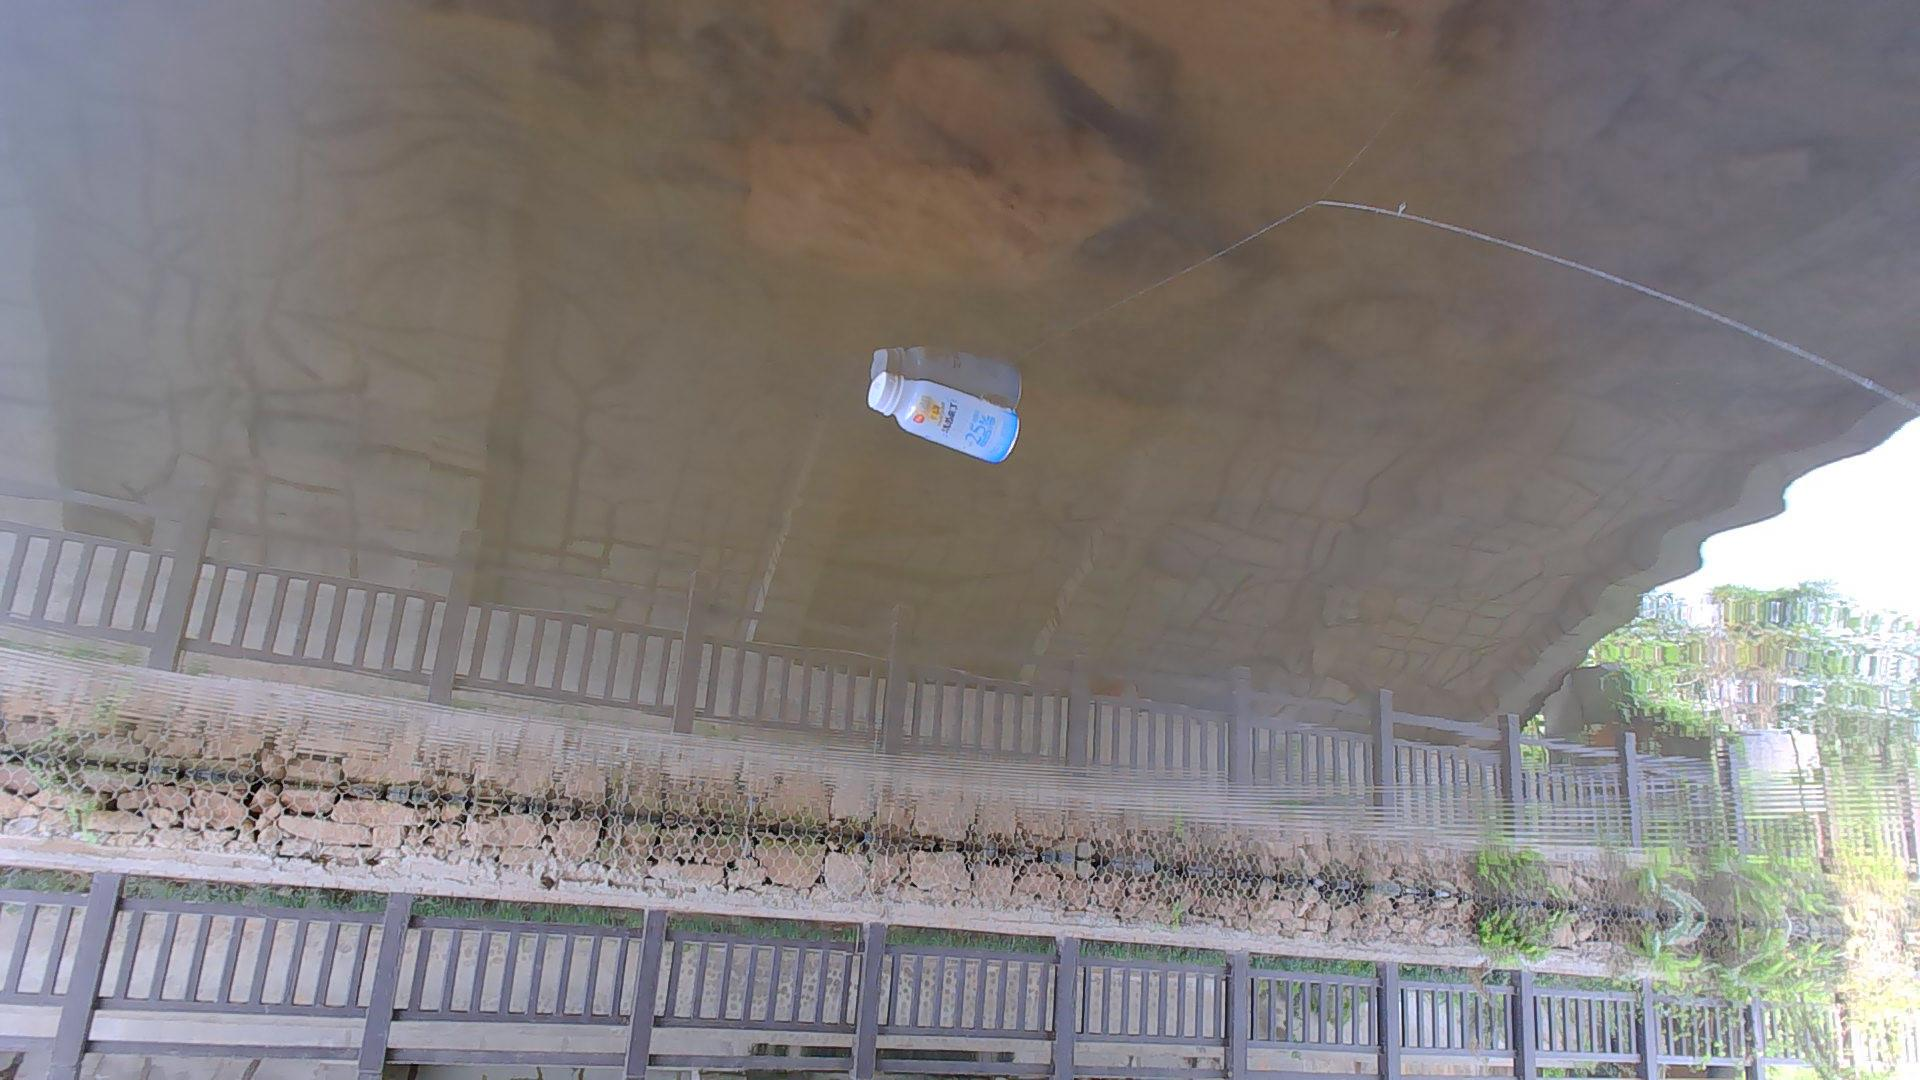Plastic: (864, 368, 1029, 476)
